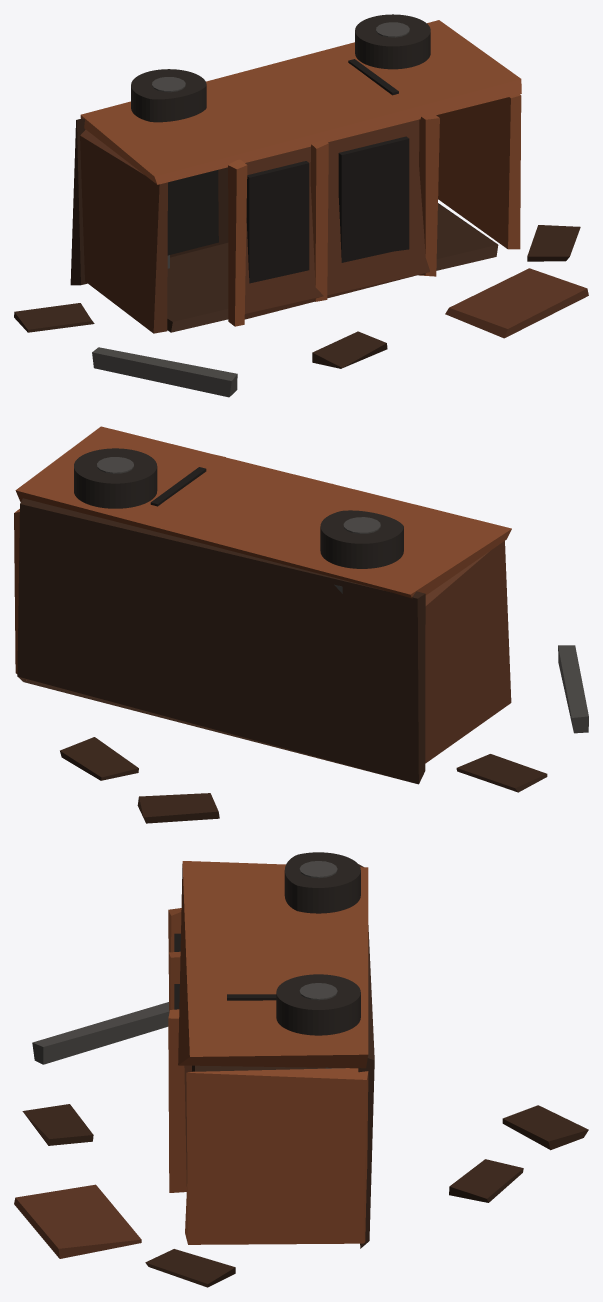
Rendered from wreck_compact.glb.
3 views of the same model, one above another, from view 1: azimuth 30°, elevation 25°; view 2: azimuth 150°, elevation 25°; view 3: azimuth 270°, elevation 25° (orthographic). The views are drawn at different scales.
Visible parts, largest first — view 1: wreck_compact; view 2: wreck_compact; view 3: wreck_compact.
Boxes of the visible parts, x1,y1,x2,y2 form: wreck_compact: (14,14,588,397); wreck_compact: (14,426,588,823); wreck_compact: (14,852,588,1287).
Bounding box in the file's own units: 4.73 × 1.79 × 4.08.
